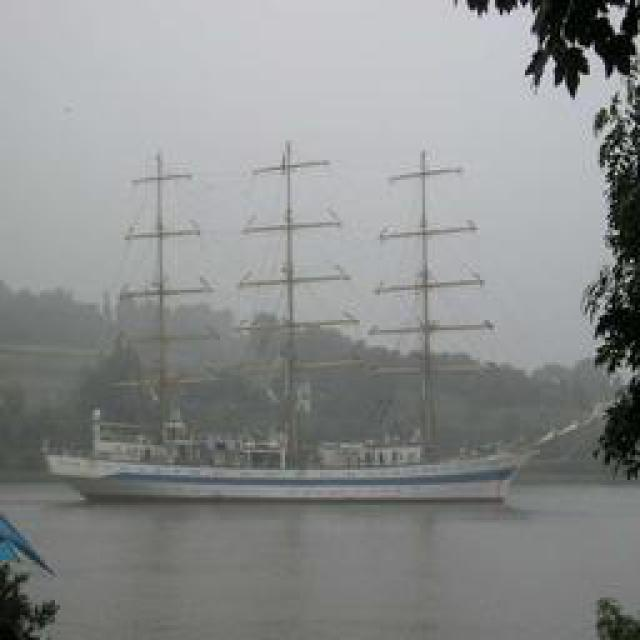Ship: (61, 450, 519, 505)
